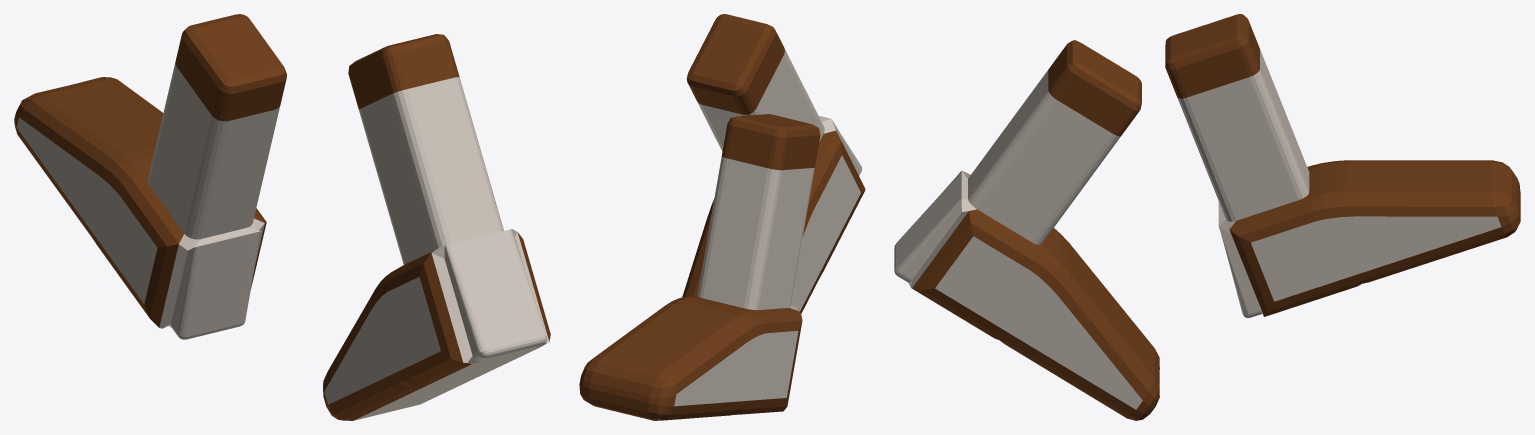
Rendered from Boots.fbx.
3 renders of one model, left to right at view 1: azimuth 30°, elevation 25°; view 2: azimuth 150°, elevation 25°; view 3: azimuth 270°, elevation 25°, orthographic. The views are drawn at different scales.
Visible parts, largest first — view 1: Boot 2, Boot 1, Boot 1.001, Boot 2.001; view 2: Boot 2, Boot 1, Boot 2.001, Boot 1.001; view 3: Boot 2, Boot 1, Boot 1.001, Boot 2.001.
Part boxes in pixels (x1=…): Boot 2: x1=14, y1=14, x2=286, y2=339; Boot 1: x1=323, y1=34, x2=550, y2=420; Boot 1.001: x1=359, y1=77, x2=503, y2=264; Boot 2.001: x1=147, y1=62, x2=279, y2=239; Boot 2: x1=579, y1=114, x2=820, y2=420; Boot 1: x1=682, y1=14, x2=865, y2=313; Boot 2.001: x1=697, y1=156, x2=814, y2=310; Boot 1.001: x1=697, y1=48, x2=824, y2=151; Boot 2: x1=1165, y1=14, x2=1520, y2=318; Boot 1: x1=894, y1=40, x2=1159, y2=420; Boot 1.001: x1=968, y1=70, x2=1120, y2=245; Boot 2.001: x1=1177, y1=49, x2=1309, y2=221.
Bounding box in the file's own units: 50.79 × 91.14 × 146.
